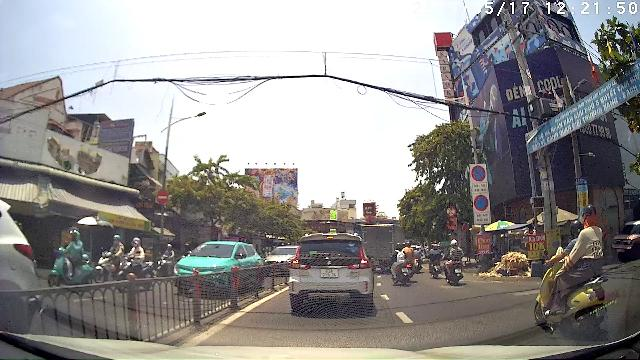130-cam-dung-va-do-xe: (471, 165, 486, 182)
131a-cam-do-xe: (474, 195, 489, 212)
